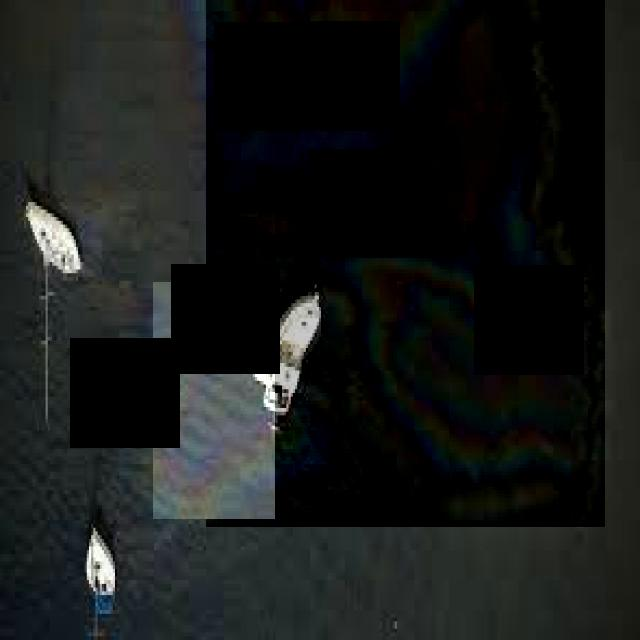oil spill: (206, 0, 605, 527), (154, 282, 275, 519)
